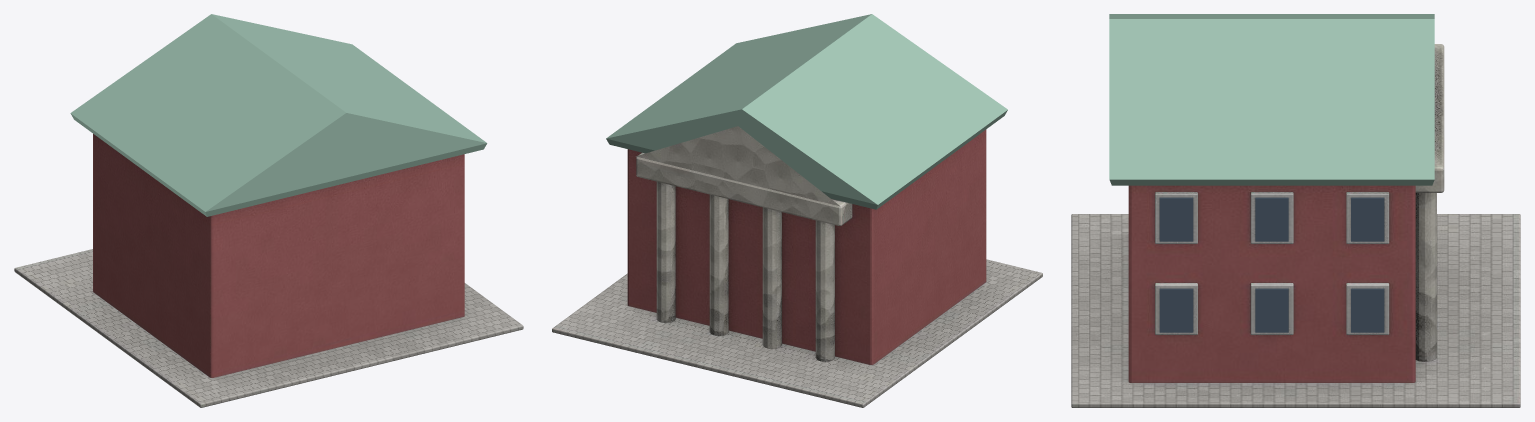
The model's file is theater.glb.
3 renders of one model, left to right at view 1: azimuth 30°, elevation 25°; view 2: azimuth 150°, elevation 25°; view 3: azimuth 270°, elevation 25°, orthographic. The views are drawn at different scales.
Parts seen in each view (by area): view 1: theater, theater_details; view 2: theater, theater_details; view 3: theater, theater_details.
Boxes of the visible parts, x1,y1,x2,y2 form: theater: (14, 134, 523, 407); theater_details: (70, 14, 487, 216); theater: (552, 126, 1042, 407); theater_details: (606, 14, 1007, 209); theater: (1071, 44, 1520, 407); theater_details: (1109, 14, 1434, 332).
Size of the model in its own units: 0.94 by 0.68 by 0.94.
3 materials, 1 textured.
